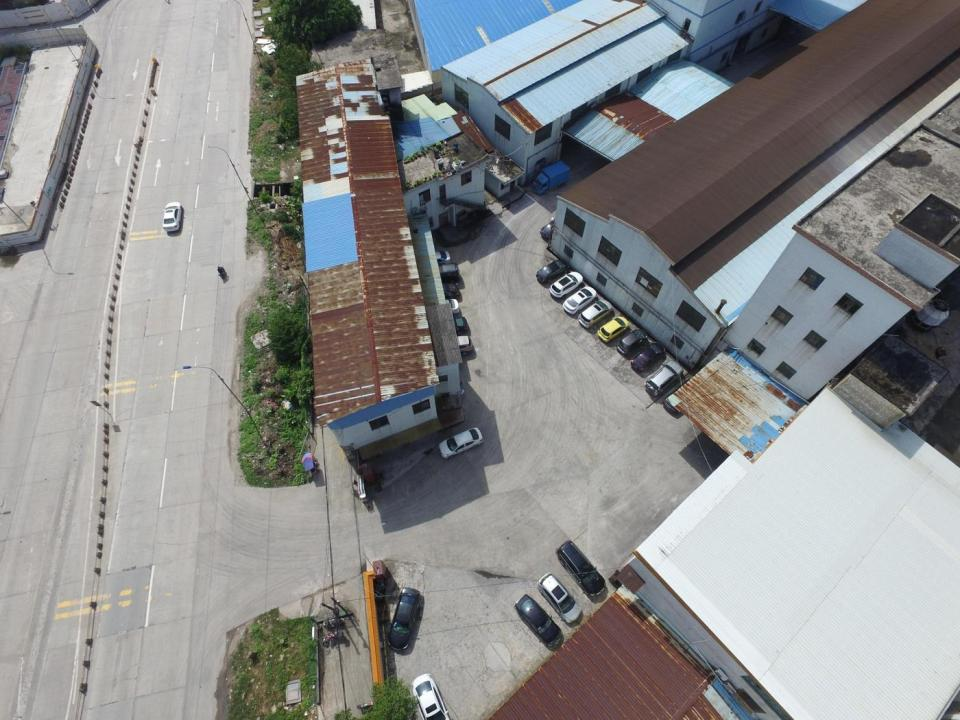car: (515, 596, 564, 647), (385, 586, 421, 650), (538, 572, 580, 624), (413, 673, 448, 720), (436, 426, 483, 458), (664, 379, 701, 415), (646, 360, 682, 396), (577, 299, 613, 329), (562, 286, 596, 316), (631, 342, 662, 373), (550, 272, 584, 299), (596, 316, 629, 343), (535, 261, 570, 285), (540, 214, 571, 241), (619, 328, 648, 356), (422, 264, 460, 283), (437, 335, 472, 355), (420, 250, 452, 268), (430, 282, 462, 300), (164, 202, 182, 232), (435, 316, 467, 331), (433, 298, 459, 314)
truck: (533, 161, 570, 196)
van: (556, 541, 606, 597)
